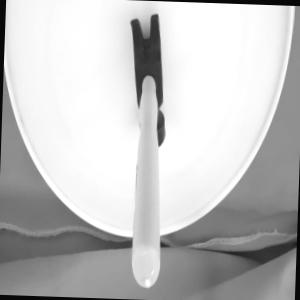martelo: (120, 12, 170, 288)
